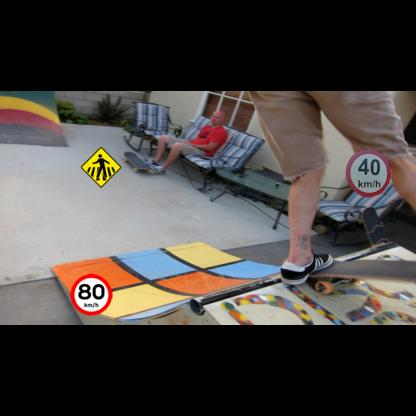A-32b: (80, 147, 122, 188)
R-19: (346, 148, 391, 197), (70, 274, 112, 316)
